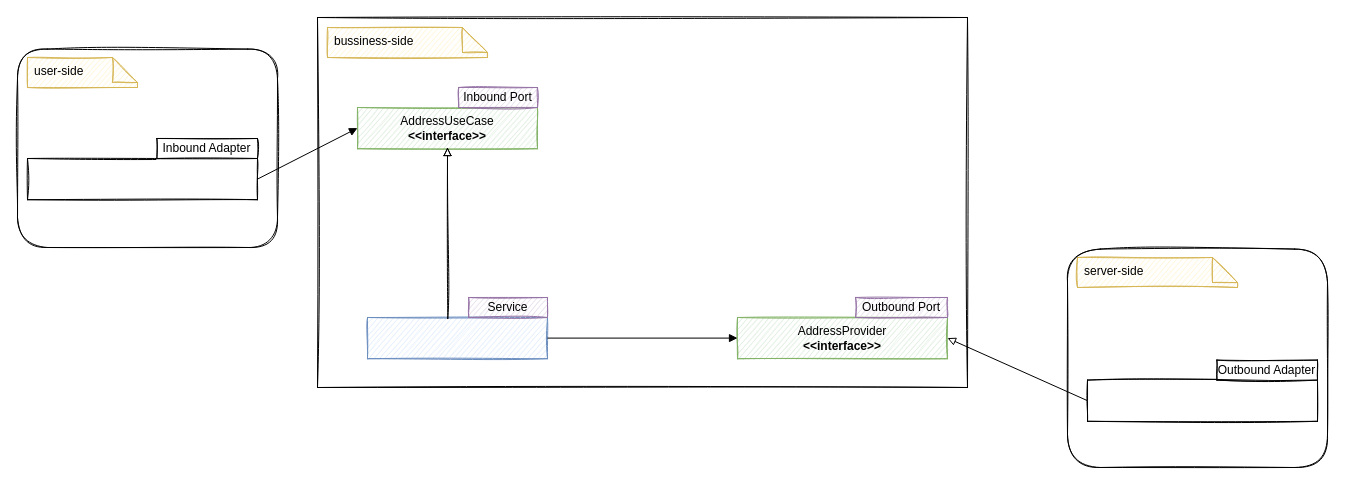
Image size: 1345x485. Some labels were removed from this diagram. The shapes that lost their labels are listed below. From the top down, each one's box as (x1, y1, x2, y2) in pixels, then its label:
(26, 158, 258, 200): AddressController
(366, 316, 548, 359): AddressService
(1086, 379, 1318, 421): AddressRepository
